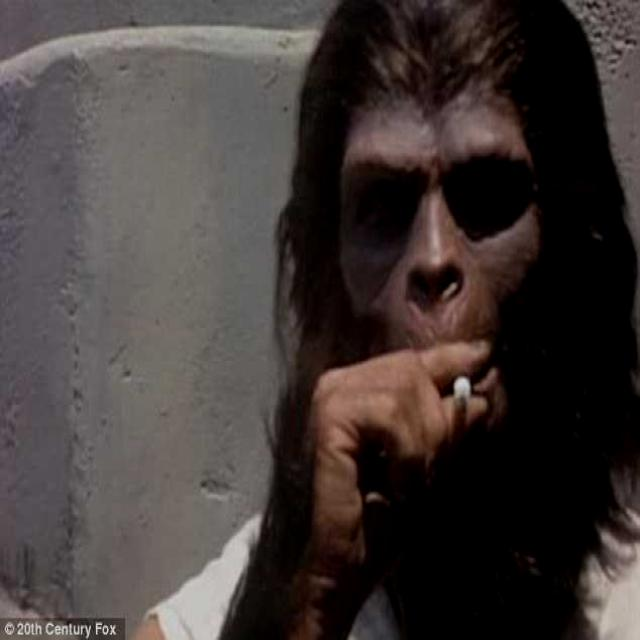Smooking: (448, 359, 472, 417)
